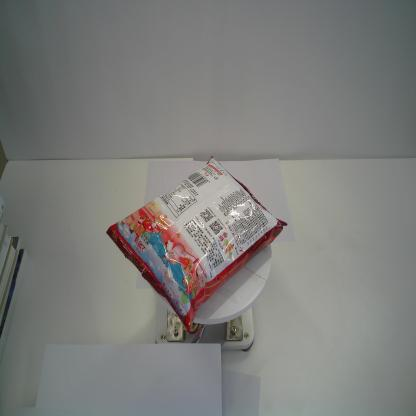Puffed Food: (105, 155, 289, 334)
